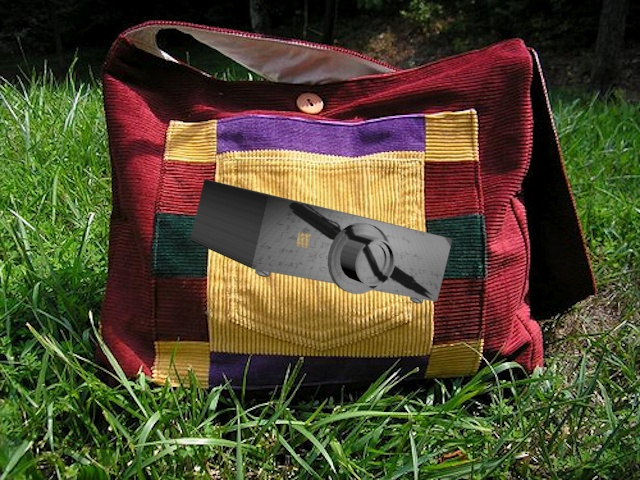projector: (185, 177, 456, 304)
